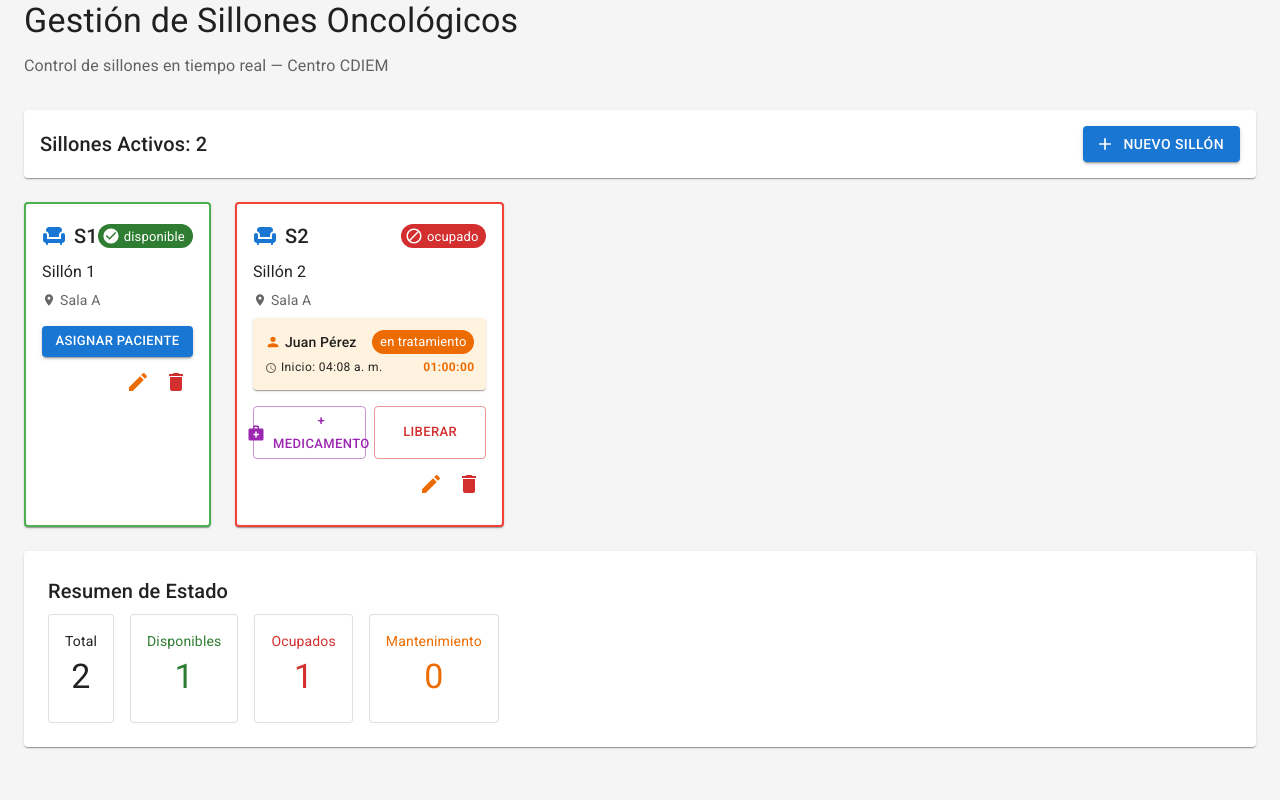
Test case: Sillones › abre diálogo de asignación al click en Asignar Paciente
Click the button "Asignar Paciente".
click(117, 341)  # box [42, 326, 193, 357]
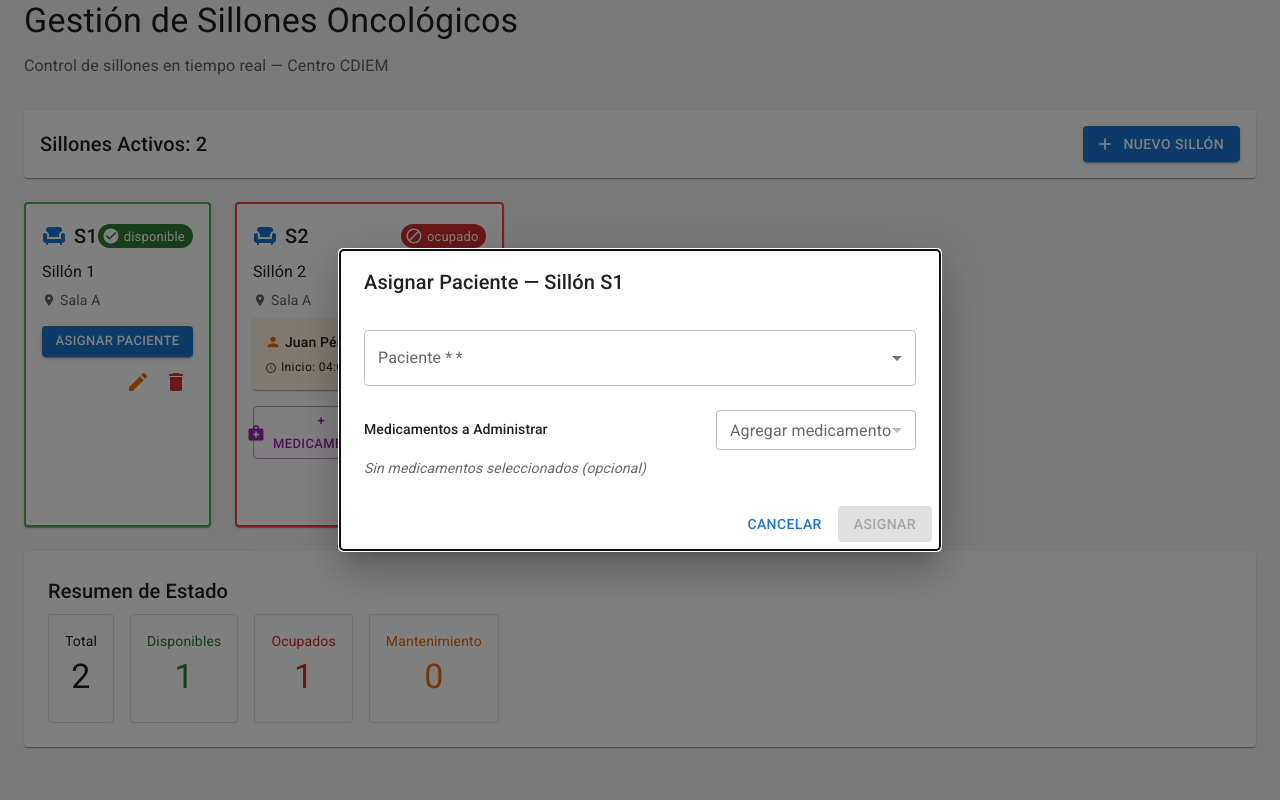
Now the dialog is shown, box [340, 250, 940, 550]
